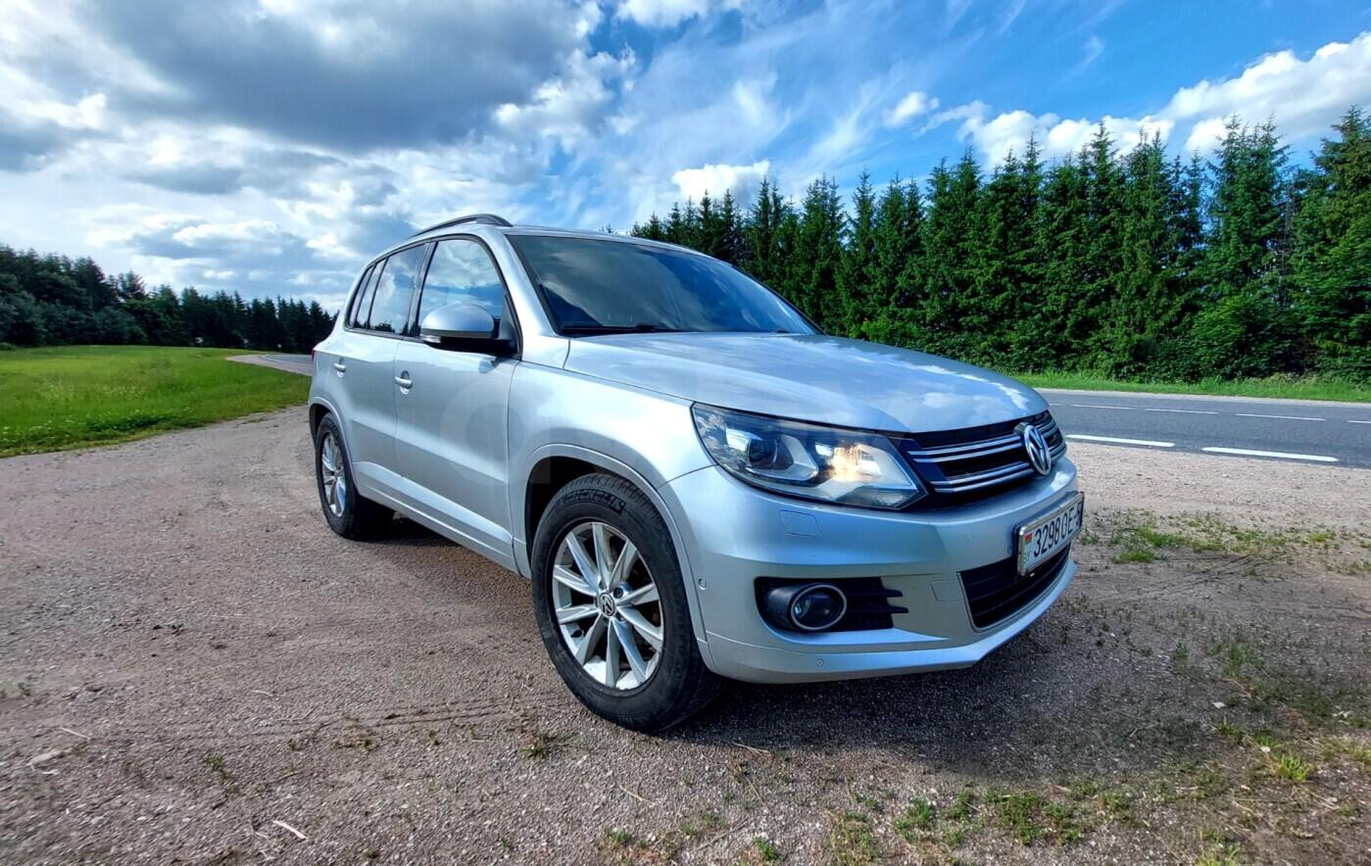Tiguan_2011-2018: (299, 224, 1087, 727)
